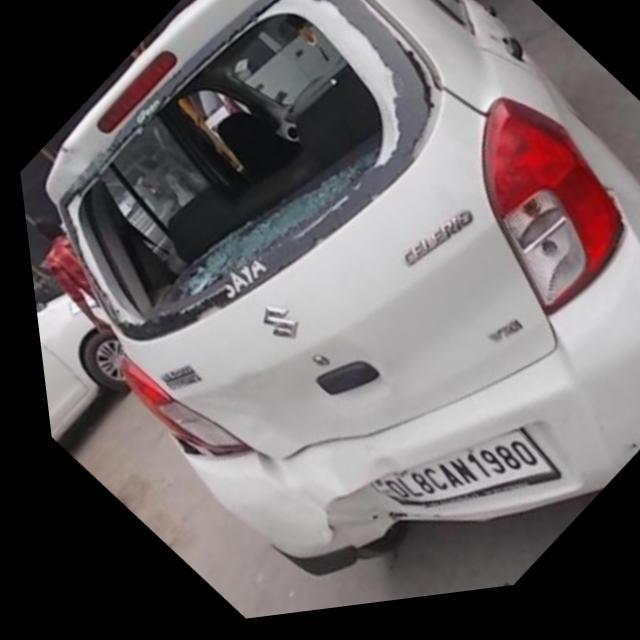dent: (306, 463, 400, 549), (241, 431, 368, 490)
glass shatter: (59, 0, 405, 331)
lamp broken: (158, 436, 246, 465)
